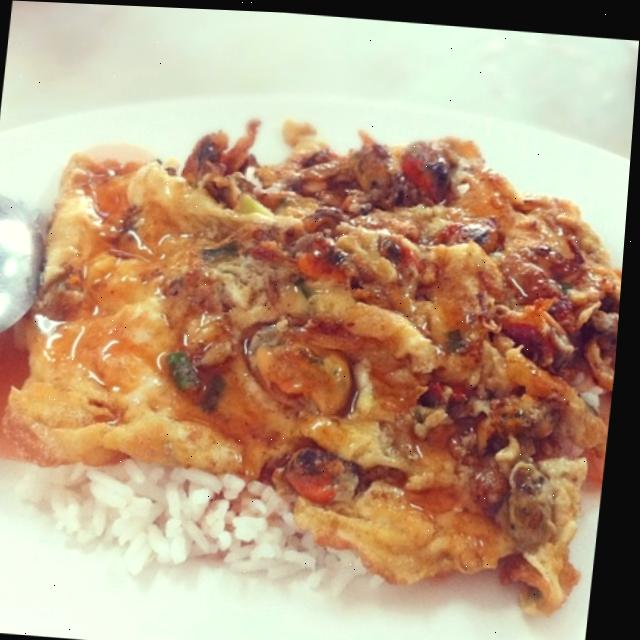炸货点心: (0, 38, 638, 640)
蛋糕甜品: (0, 38, 638, 640)
